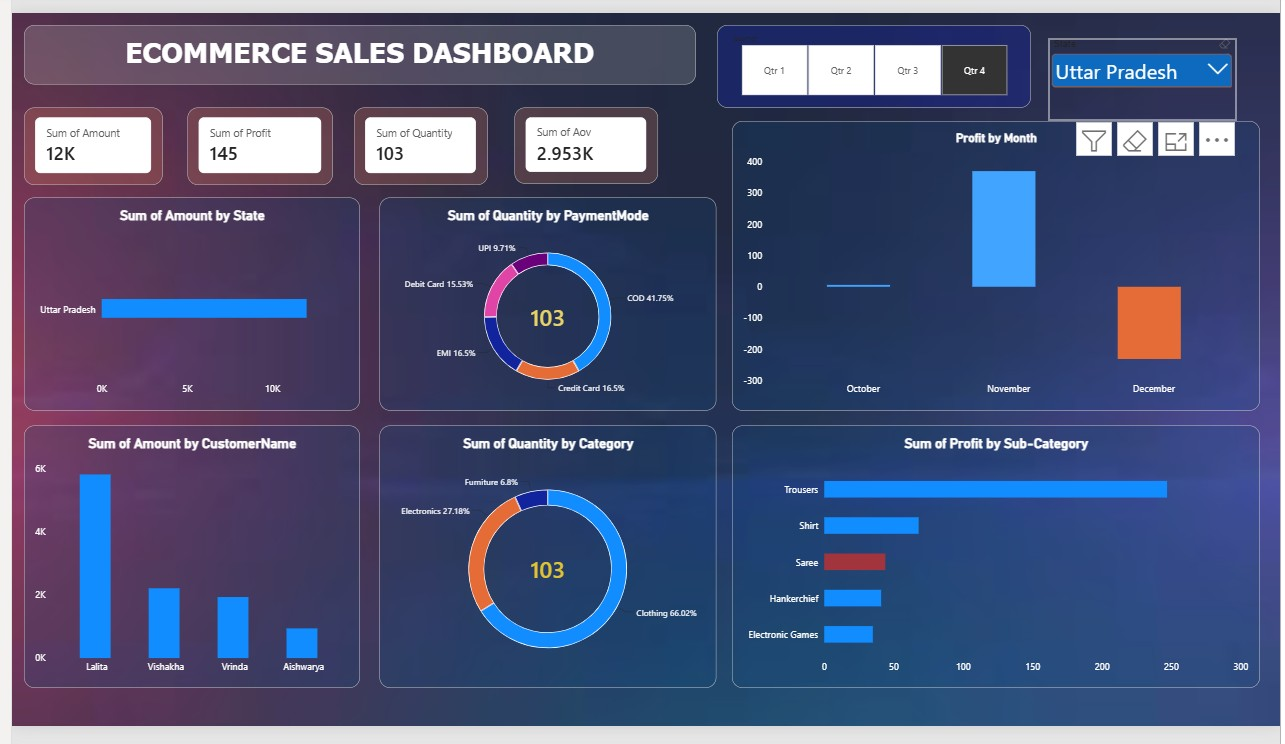

The dashboard page shown, as its layout file describes it:
{"tool":"powerbi","page":{"name":"Page 1","canvas":[1920,1080],"ordinal":0},"visuals":[{"type":"textbox","box":[17.5,17.5,1017.5,90],"z":0},{"type":"columnChart","title":"Profit by Month","fields":{"Y":["Sum(Details.Profit)"],"Category":["Orders.Order Date.Variation.Date Hierarchy.Month"]},"box":[1090.2,163.5,799.5,438.4],"z":1000},{"type":"barChart","fields":{"Category":["Details.Sub-Category"],"Y":["Sum(Details.Profit)"]},"box":[1090.2,624.6,799.5,397.5],"z":2000},{"type":"donutChart","fields":{"Category":["Details.Category"],"Y":["Sum(Details.Quantity)"]},"box":[557.5,625,510,397.5],"z":3000},{"type":"donutChart","title":"Sum of Quantity by PaymentMode","fields":{"Y":["Sum(Details.Quantity)"],"Category":["Details.PaymentMode"]},"box":[557.5,280,510,322.5],"z":4000},{"type":"cardVisual","fields":{"Data":["Sum(Details.Amount)"]},"box":[17.5,142.5,210,117.5],"z":5000},{"type":"cardVisual","fields":{"Data":["Sum(Details.Profit)"]},"box":[265,142.5,220,117.5],"z":6000},{"type":"cardVisual","fields":{"Data":["Sum(Details.Quantity)"]},"box":[517.5,142.5,202.5,117.5],"z":7000},{"type":"cardVisual","fields":{"Data":["Sum(Details.Aov)"]},"box":[760,142.5,217.5,115],"z":8000},{"type":"barChart","fields":{"Category":["Orders.State"],"Y":["Sum(Details.Amount)"]},"box":[18.2,279.4,508.8,322.5],"z":9000},{"type":"columnChart","fields":{"Category":["Orders.CustomerName"],"Y":["Sum(Details.Amount)"]},"box":[18.2,624.6,508.8,397.5],"z":10000},{"type":"slicer","fields":{"Values":["Orders.Order Date.Variation.Date Hierarchy.Quarter"]},"box":[1067.5,17.5,475,125],"z":11000},{"type":"slicer","fields":{"Values":["Orders.State"]},"box":[1570,37.5,282.5,125],"z":12000}]}

Visuals, with their boxes in screenshot pixels (x1, y1, x2, y2), scaled from the page's 1920x1080 canvas onto the 1285x744 screenshot:
textbox: l=12, t=12, r=693, b=74
"Profit by Month" columnChart: l=730, t=113, r=1265, b=415
barChart - Details.Sub-Category x Sum(Details.Profit): l=730, t=430, r=1265, b=704
donutChart - Details.Category x Sum(Details.Quantity): l=373, t=431, r=714, b=704
"Sum of Quantity by PaymentMode" donutChart: l=373, t=193, r=714, b=415
cardVisual - Sum(Details.Amount): l=12, t=98, r=152, b=179
cardVisual - Sum(Details.Profit): l=177, t=98, r=325, b=179
cardVisual - Sum(Details.Quantity): l=346, t=98, r=482, b=179
cardVisual - Sum(Details.Aov): l=509, t=98, r=654, b=177
barChart - Orders.State x Sum(Details.Amount): l=12, t=192, r=353, b=415
columnChart - Orders.CustomerName x Sum(Details.Amount): l=12, t=430, r=353, b=704
slicer - Orders.Order Date.Variation.Date Hierarchy.Quarter: l=714, t=12, r=1032, b=98
slicer - Orders.State: l=1051, t=26, r=1240, b=112
